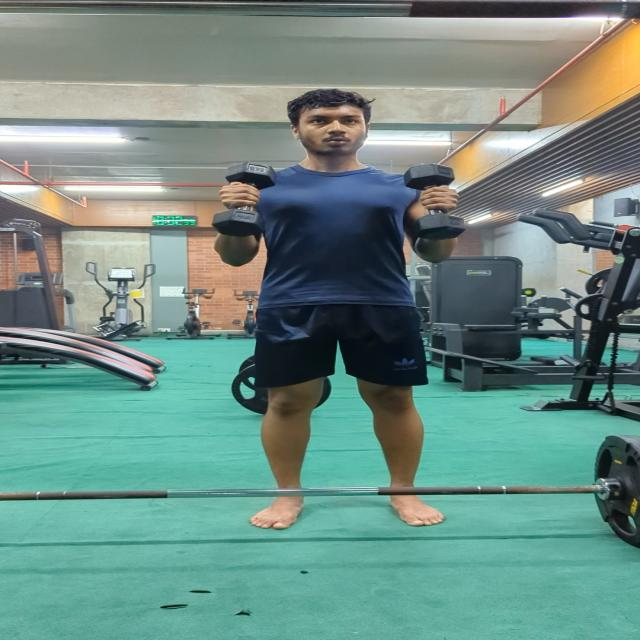Normal_DumbbellBicepCurls: (201, 82, 478, 534)
